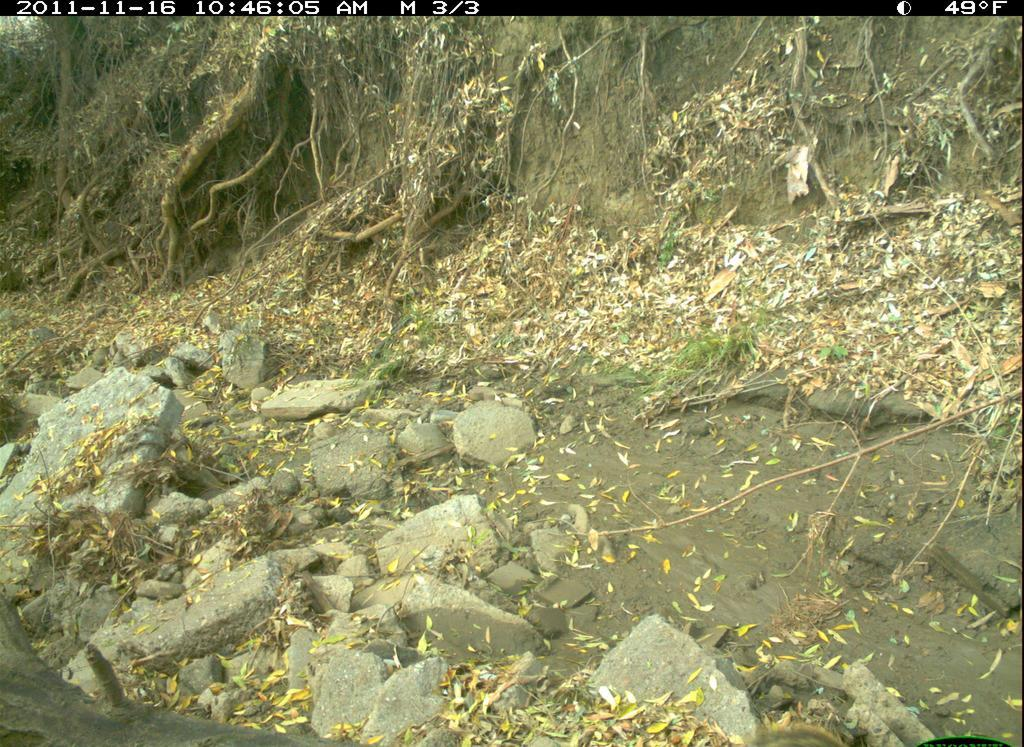squirrel: (745, 718, 858, 747)
